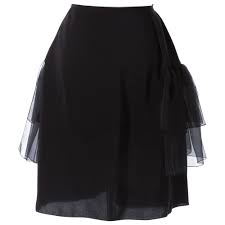C_skirt: (13, 3, 211, 224)
